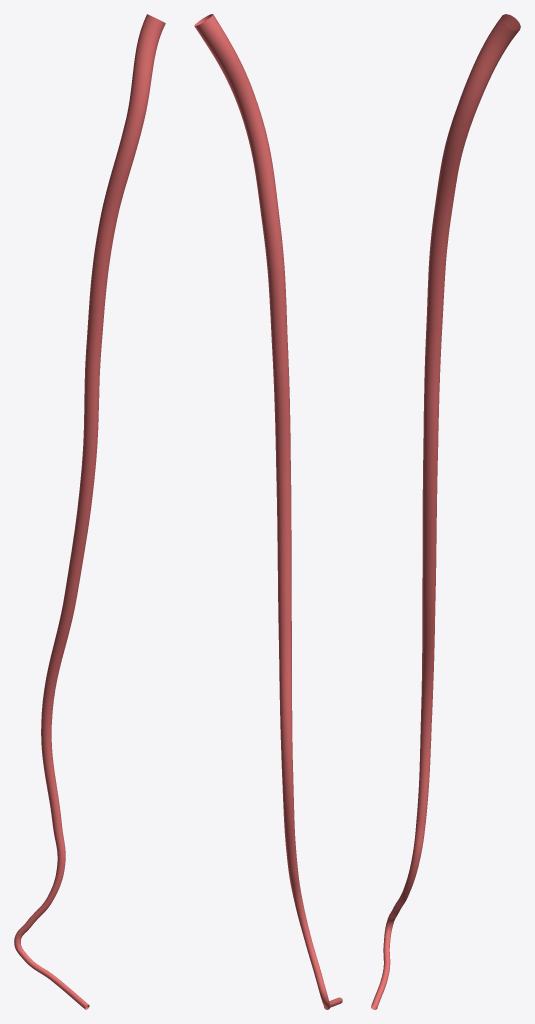
Rendered from Posterior_tibial_artery.l_BezierCurve.172.glb.
The picture shows the model from 3 angles, left to right: view 1: azimuth 30°, elevation 25°; view 2: azimuth 150°, elevation 25°; view 3: azimuth 330°, elevation 25°; orthographic projection. The views are drawn at different scales.
Visible parts, largest first — view 1: Posterior_tibial_artery.l_BezierCurve.172; view 2: Posterior_tibial_artery.l_BezierCurve.172; view 3: Posterior_tibial_artery.l_BezierCurve.172.
Part boxes in pixels (left/top/right/bottom): Posterior_tibial_artery.l_BezierCurve.172: left=14, top=14, right=165, bottom=1009; Posterior_tibial_artery.l_BezierCurve.172: left=194, top=14, right=342, bottom=1009; Posterior_tibial_artery.l_BezierCurve.172: left=371, top=14, right=520, bottom=1009.
Size of the model in its own units: 0.0514 by 0.3378 by 0.0314.
